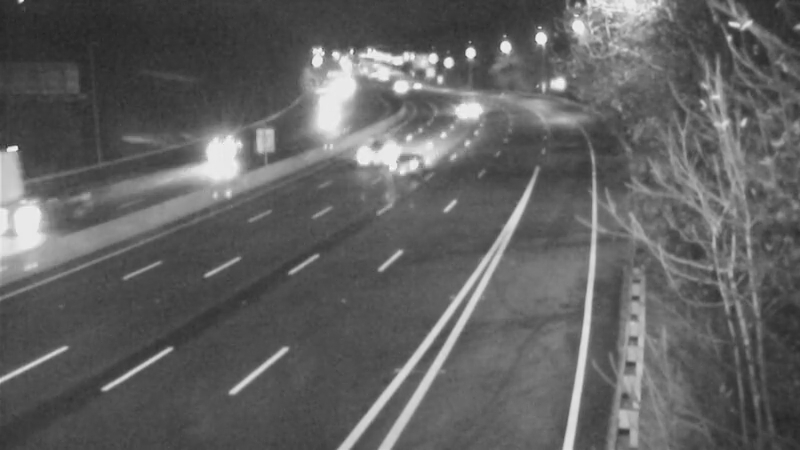vehicle: (373, 124, 453, 204), (178, 110, 258, 190), (1, 183, 71, 263), (373, 64, 423, 114), (436, 81, 486, 131), (352, 121, 402, 171), (302, 89, 352, 139)
